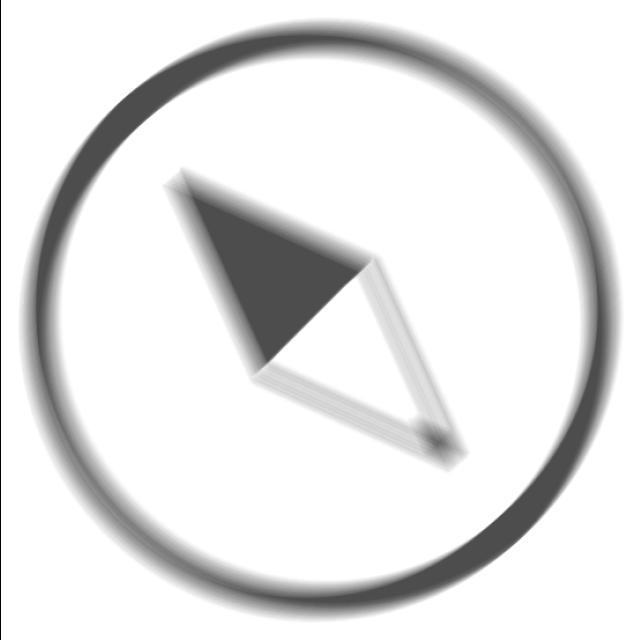compass: (12, 11, 626, 630)
